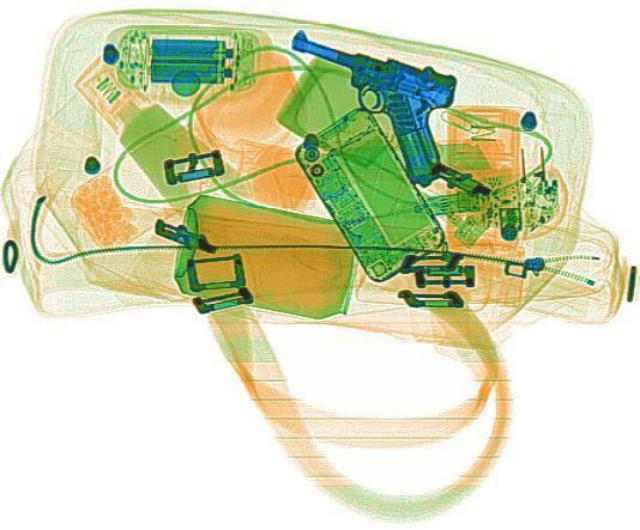Gun: (244, 30, 480, 185)
